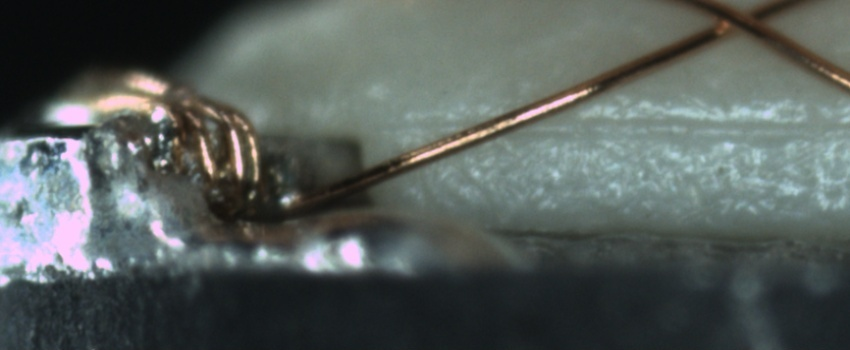CL: (695, 0, 781, 44)
DL: (396, 99, 850, 157)
TE: (69, 61, 266, 205)
